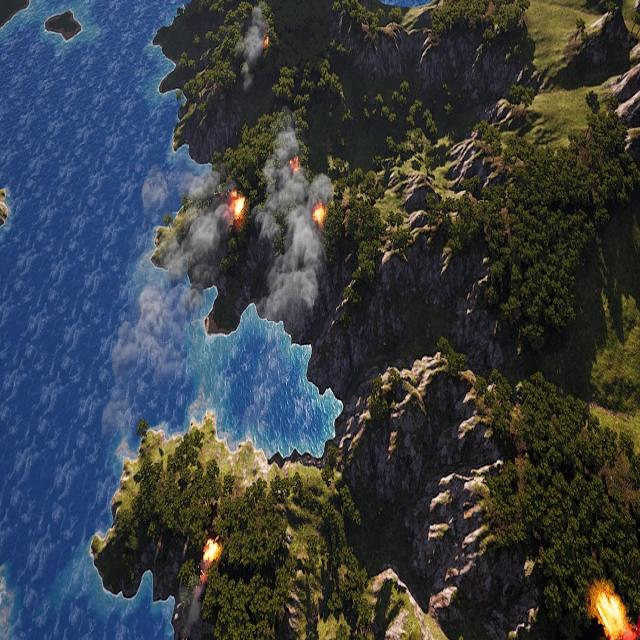fire: (595, 590, 628, 639), (231, 192, 246, 223), (203, 540, 221, 565), (313, 202, 326, 224), (289, 157, 300, 174), (264, 33, 271, 48)
smoke: (103, 162, 231, 432), (253, 118, 333, 331), (234, 2, 267, 89), (180, 576, 210, 640)
